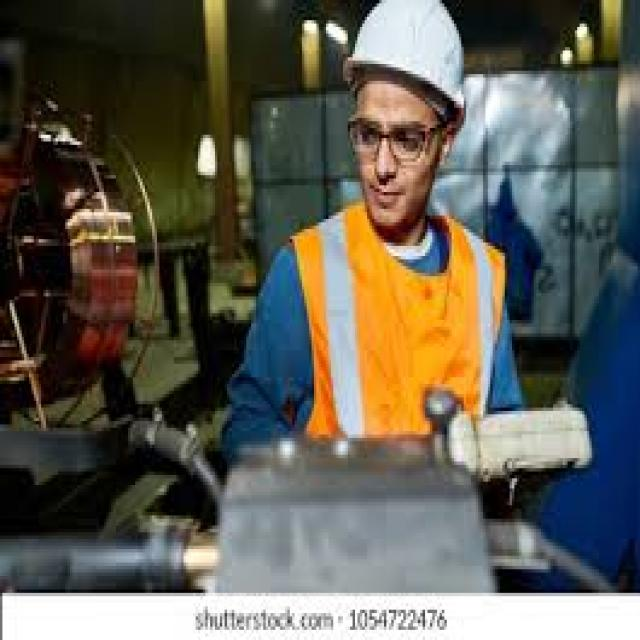Reflective-Jacket: (270, 206, 514, 472)
Safety-Helmet: (338, 0, 478, 125)
